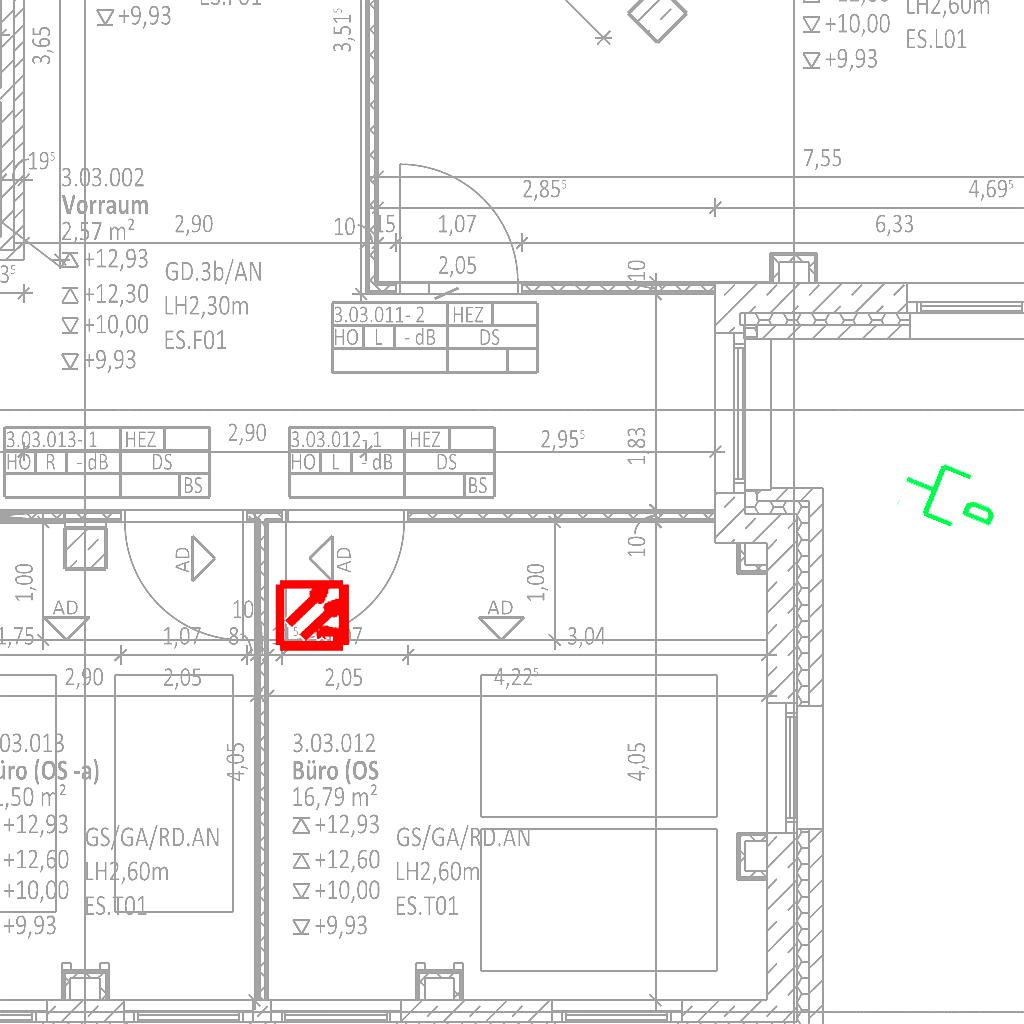Datenanschluss_einfach: (892, 444, 1011, 546)
OT_Multisensormelder_(Kombination_RMO_WMD): (258, 559, 371, 672)
